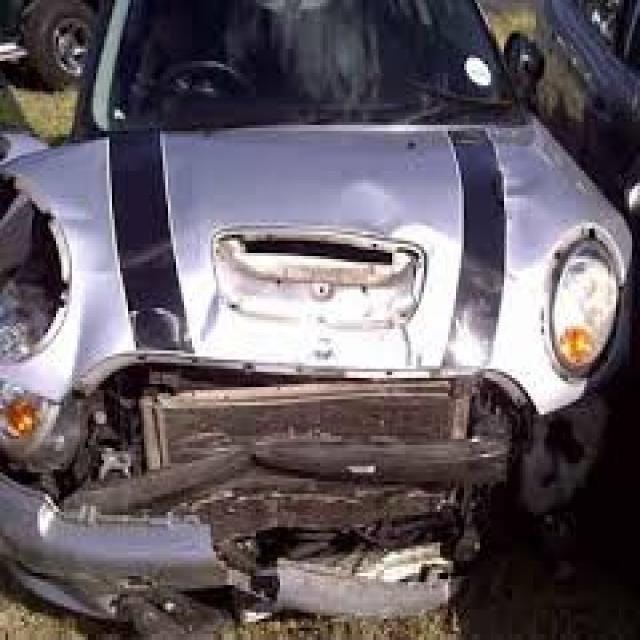moderate: (0, 143, 596, 640)
